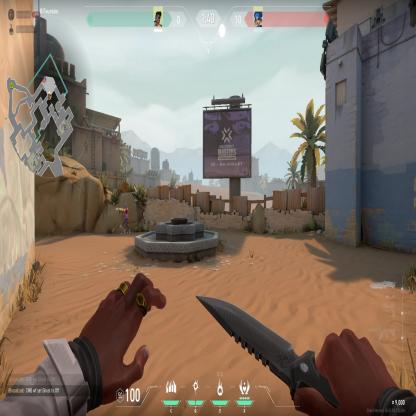enemy: (119, 201, 130, 235)
